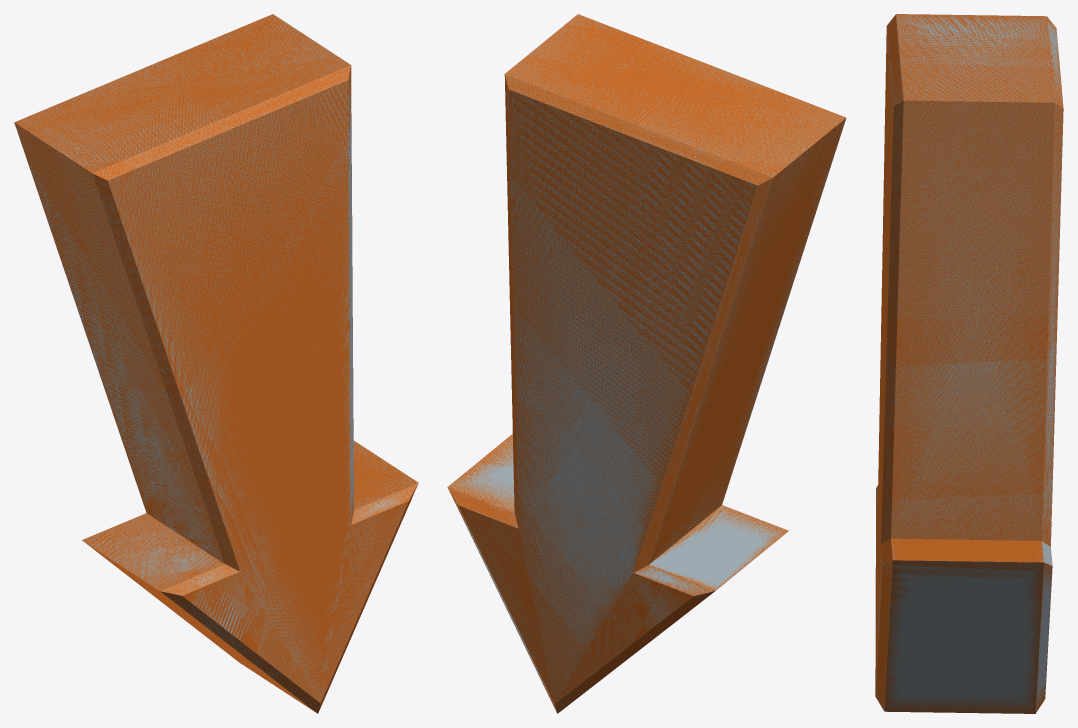
The model's file is Arrow.fbx.
3 renders of one model, left to right at view 1: azimuth 30°, elevation 25°; view 2: azimuth 150°, elevation 25°; view 3: azimuth 270°, elevation 25°, orthographic.
Visible parts, largest first — view 1: Group1; view 2: Group1; view 3: Group1.
Boxes of the visible parts, bbox=[...] form: Group1: bbox=[14, 14, 418, 713]; Group1: bbox=[447, 14, 846, 713]; Group1: bbox=[875, 14, 1063, 713].
Bounding box in the file's own units: 40.07 × 74.26 × 19.93.
